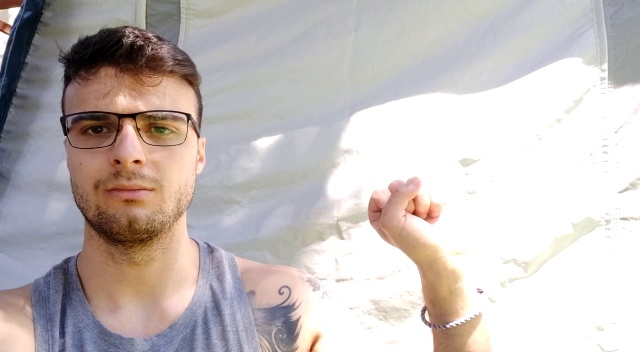Fist: (360, 168, 476, 282)
